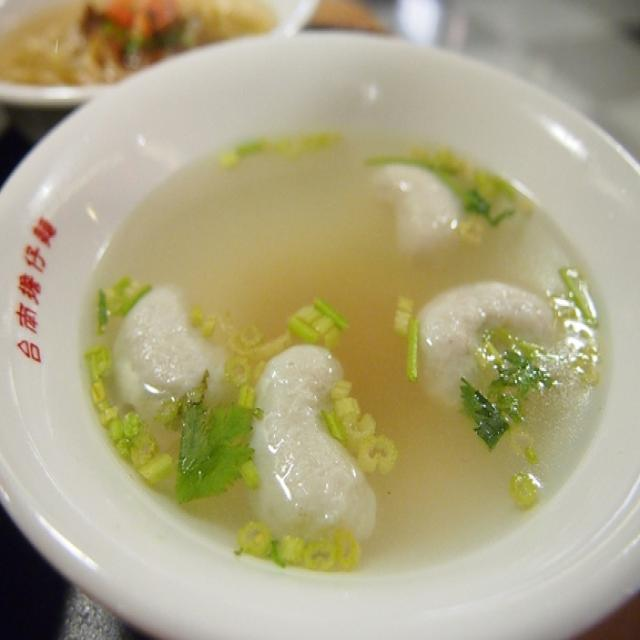熟制海鲜: (28, 40, 633, 612)
